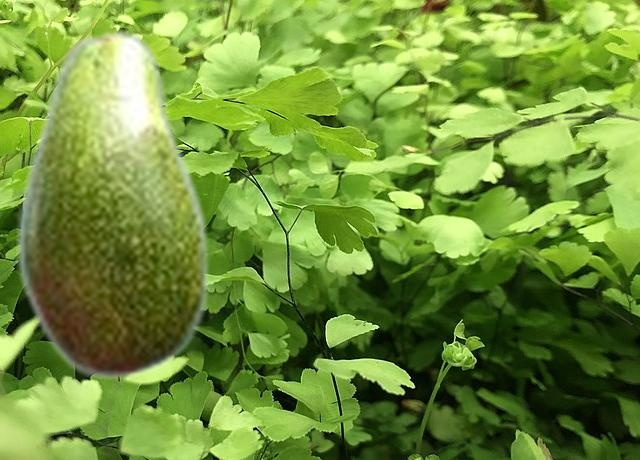avocado: (16, 26, 210, 382)
